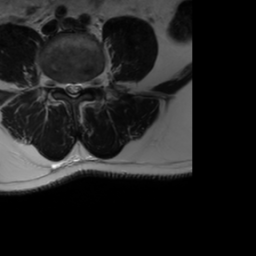CCS_stenosis: (70, 75, 77, 104)
LFS_normal: (84, 73, 93, 92)
LLS_stenosis: (77, 75, 84, 99)
RFS_stenosis: (57, 74, 64, 95)
RLS_normal: (64, 75, 70, 99)
